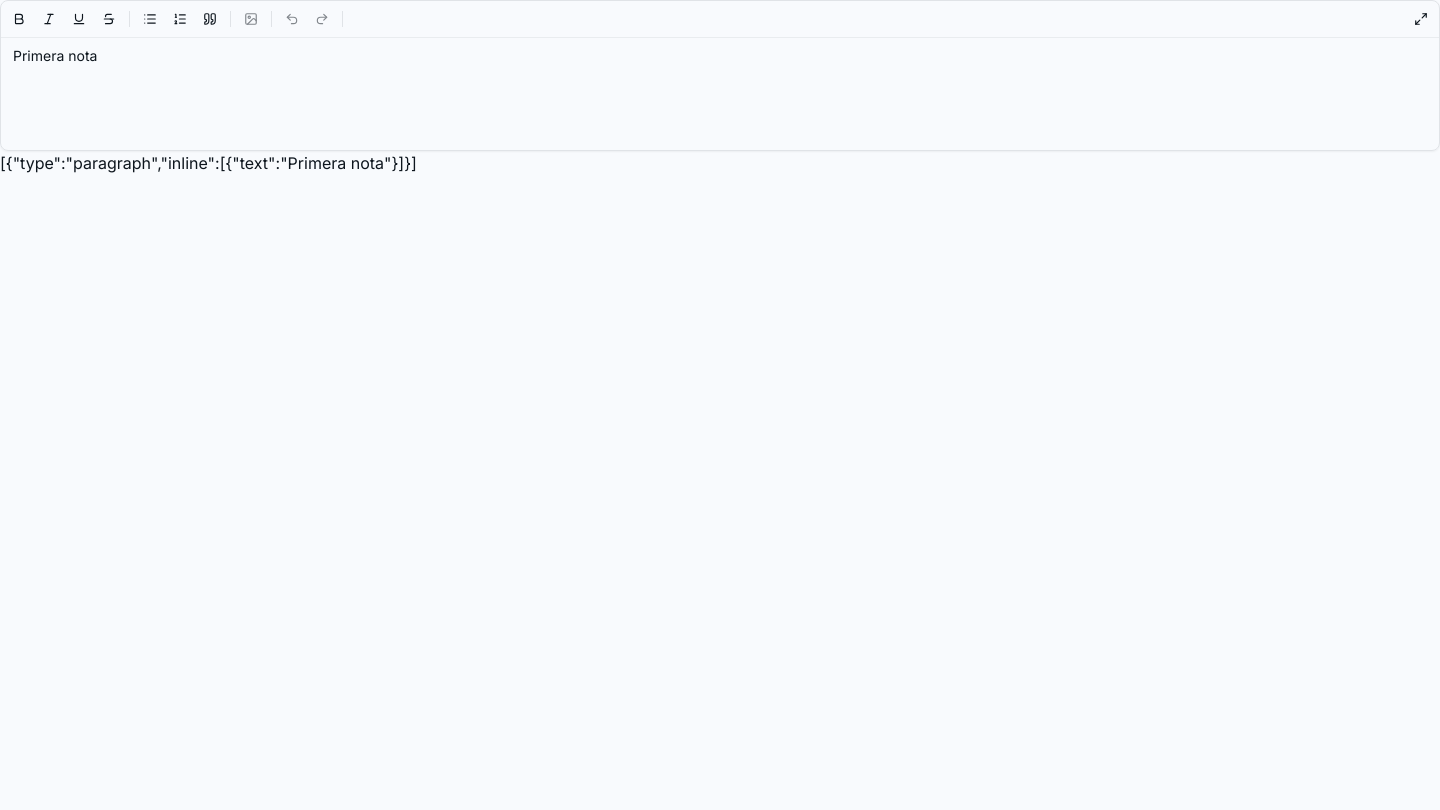
Test: el campo de notas en grande › lo escrito en el diálogo llega al campo de la ficha
Press the mouse on the button named "Escribir en grande": (1421, 19) [1407,5,1435,33]
Click the button named "Escribir en grande": (1421, 19) [1407,5,1435,33]
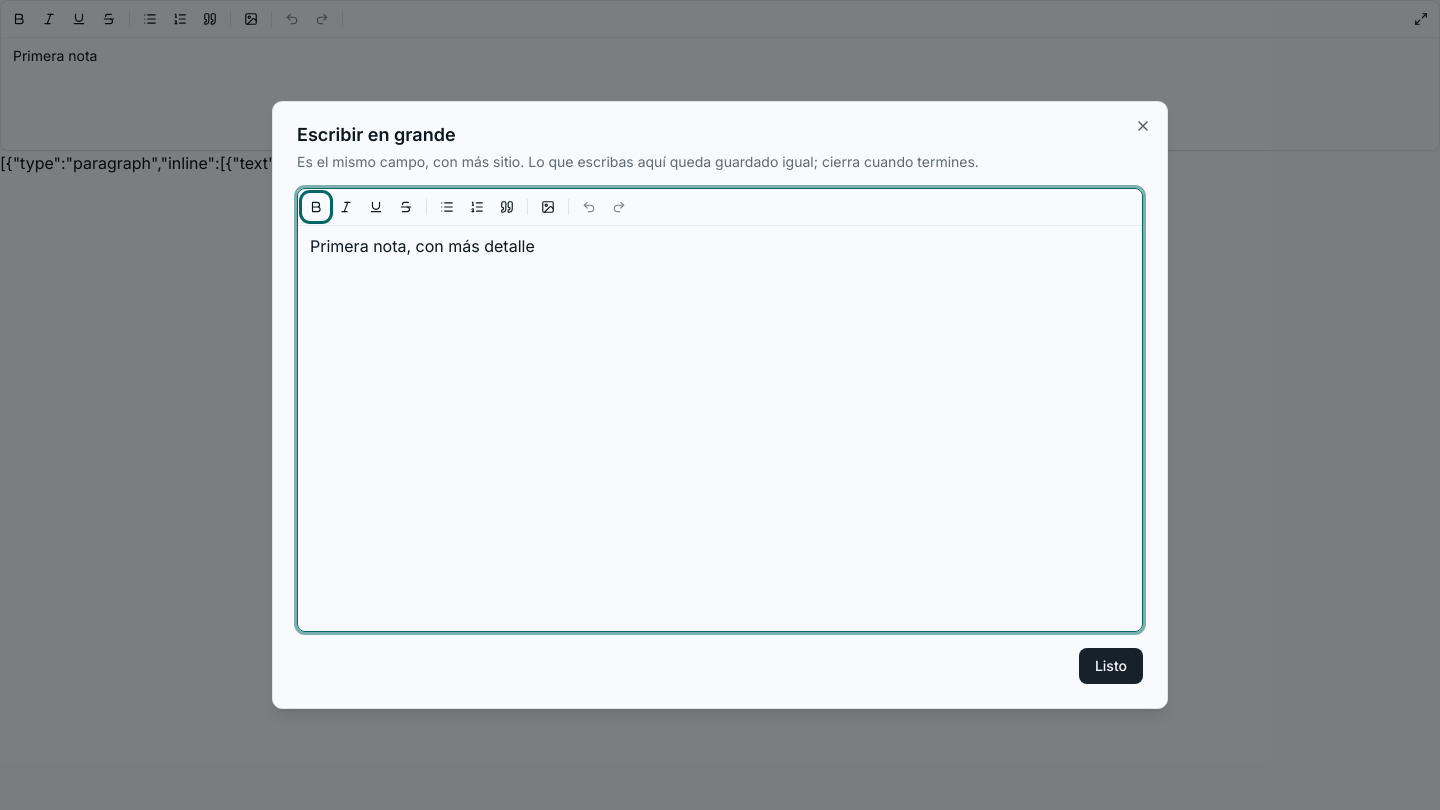
Clear the field labelled "Primera nota, con más detalle": (422, 246) [310,236,535,256]
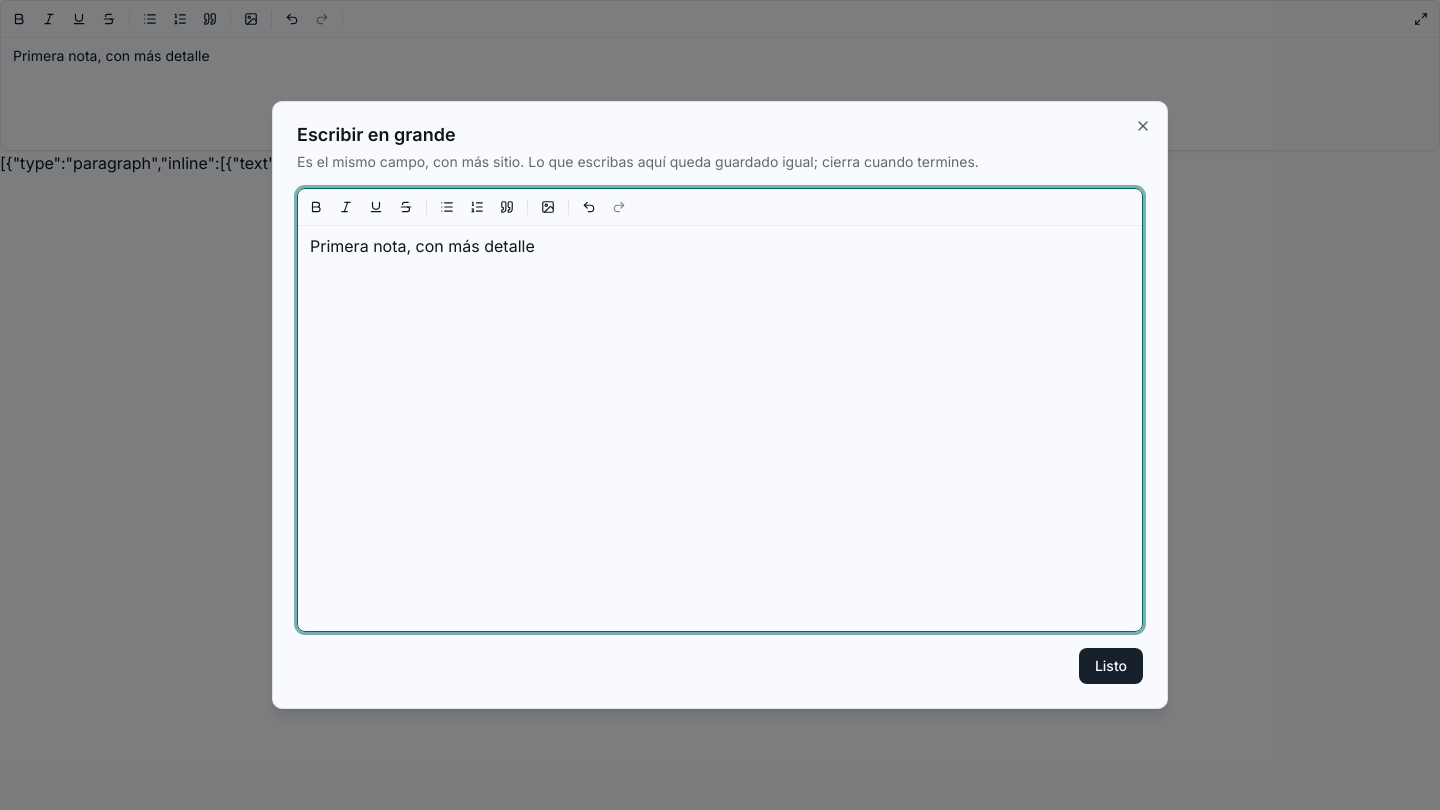
Expected: the text with test id "valor" shows "Primera nota, con más detalle", [0,153,545,173]
Expected: the 1st field labelled "Primera nota, con más detalle" is shown, [13,47,210,64]
